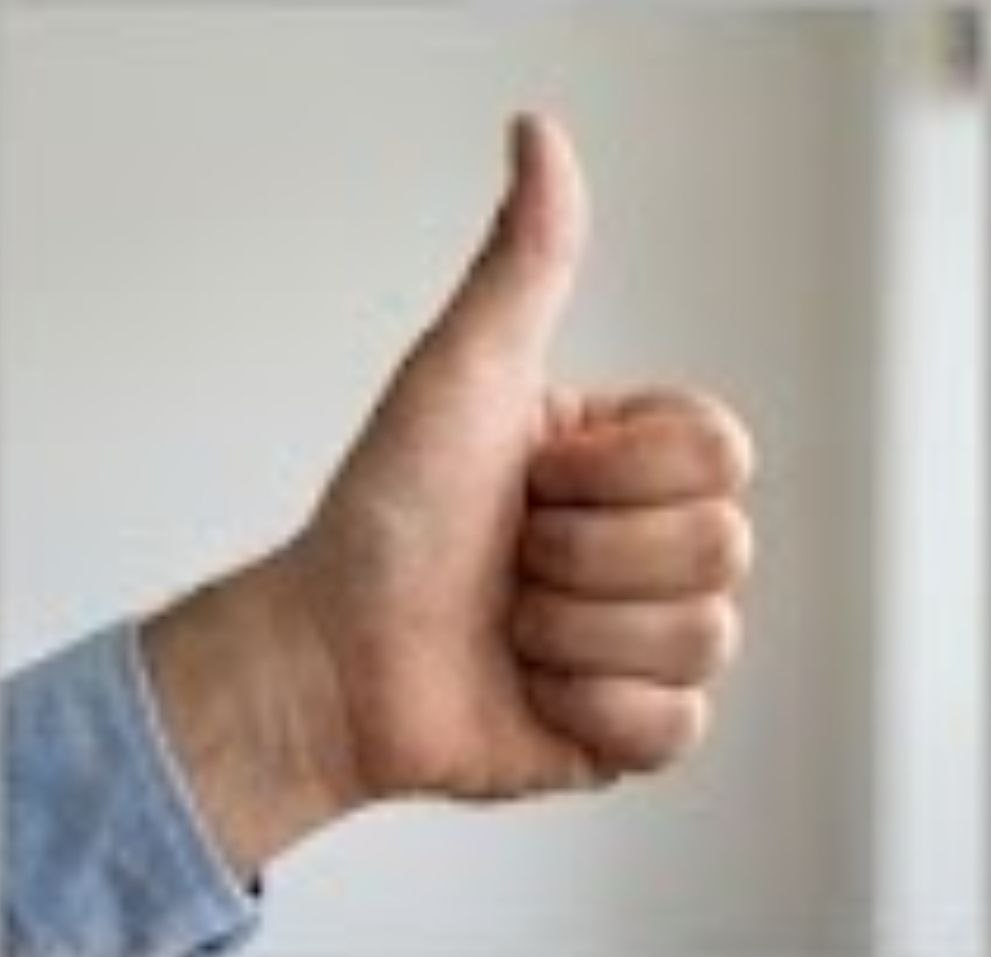Thumbs up: (323, 75, 777, 864)
